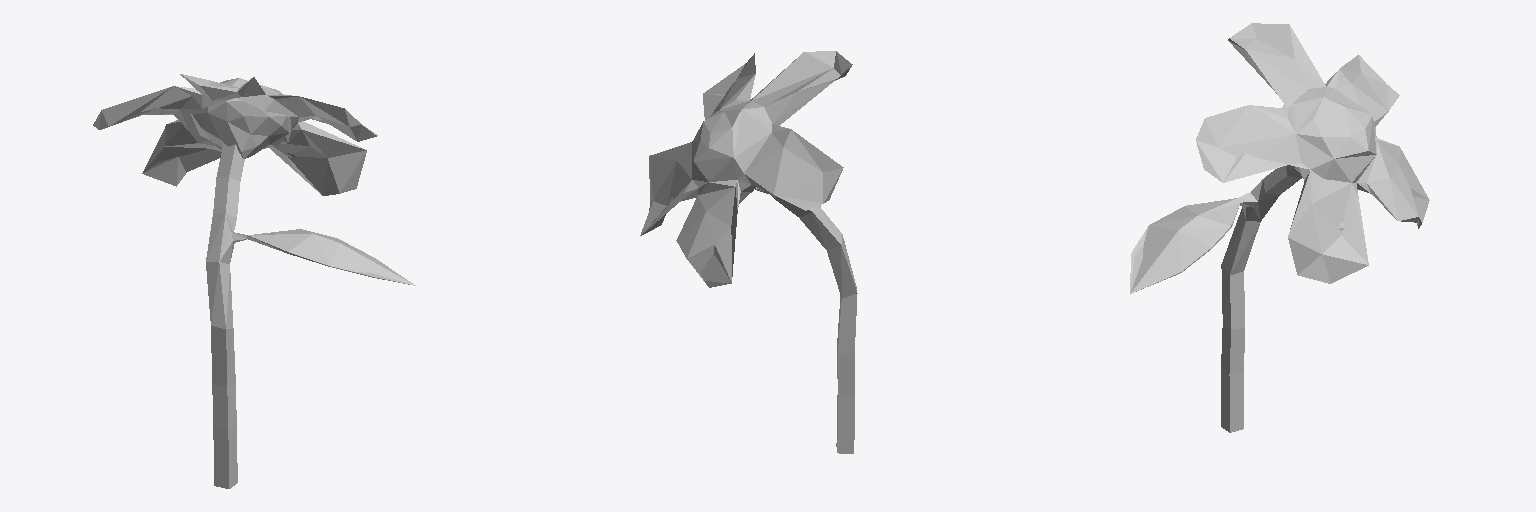
The model's file is Flower2.obj.
3 renders of one model, left to right at view 1: azimuth 30°, elevation 25°; view 2: azimuth 150°, elevation 25°; view 3: azimuth 270°, elevation 25°, orthographic.
Visible parts, largest first — view 1: Flower2_Plane.613; view 2: Flower2_Plane.613; view 3: Flower2_Plane.613.
Part boxes in pixels (x1,y1,x2,y2): Flower2_Plane.613: (93,74,415,488); Flower2_Plane.613: (640,51,857,453); Flower2_Plane.613: (1130,23,1429,432).
Size of the model in its own units: 0.8978 by 1.48 by 1.01.